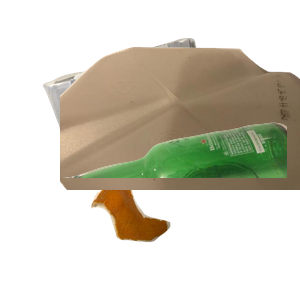glass: (60, 120, 300, 300)
paper: (40, 35, 249, 187)
plastic: (60, 44, 300, 224)
trash: (88, 177, 251, 300)
